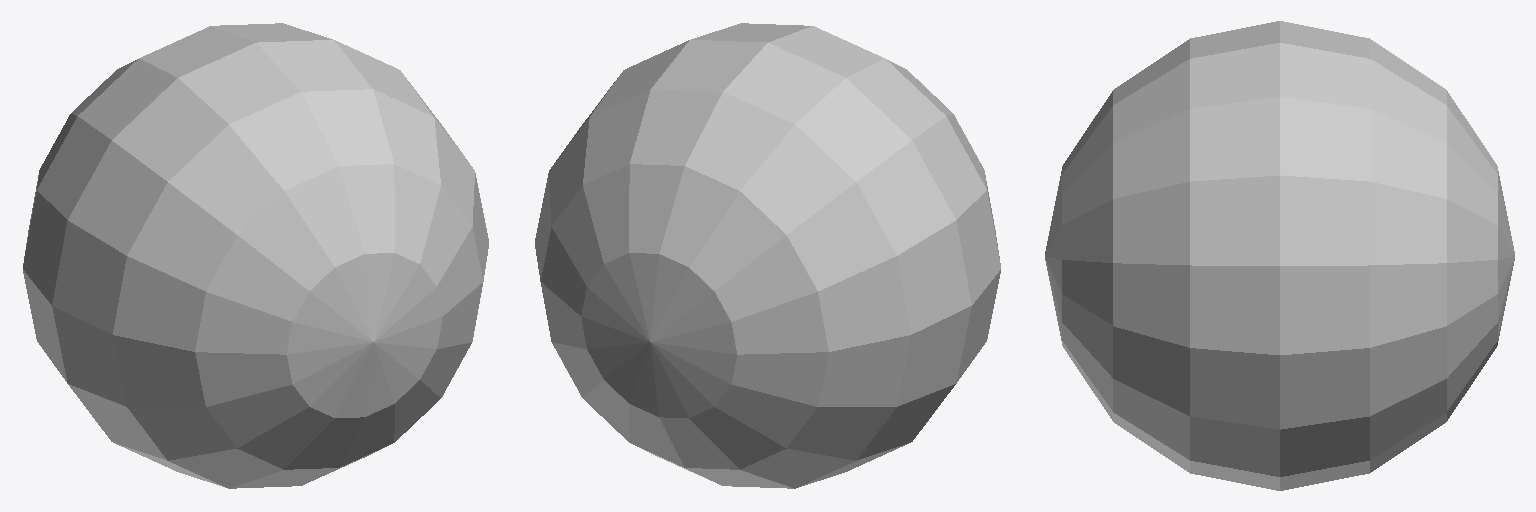
The model's file is editorLight.obj.
3 views of the same model, side by side, from view 1: azimuth 30°, elevation 25°; view 2: azimuth 150°, elevation 25°; view 3: azimuth 270°, elevation 25° (orthographic).
Parts seen in each view (by area): view 1: Sphere001; view 2: Sphere001; view 3: Sphere001.
Boxes of the visible parts, <box> form: Sphere001: <box>23,23,488,488</box>; Sphere001: <box>535,23,1000,488</box>; Sphere001: <box>1045,21,1514,490</box>.
Size of the model in its own units: 2 by 2 by 2.